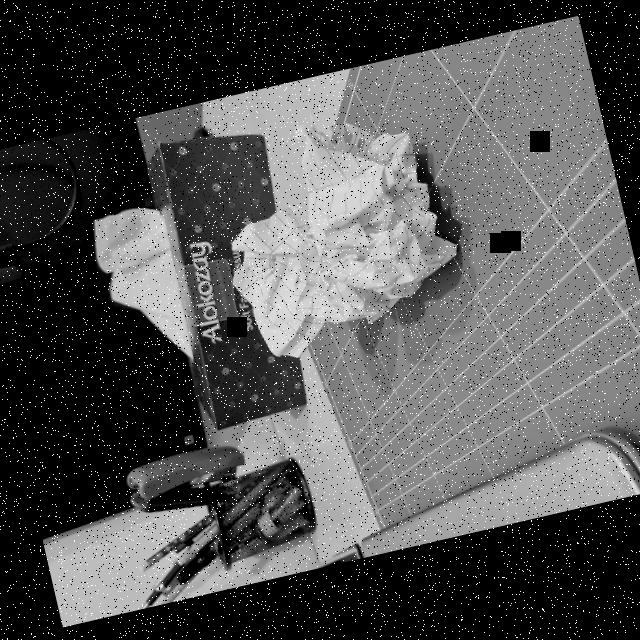scrap_paper: (204, 92, 476, 364)
